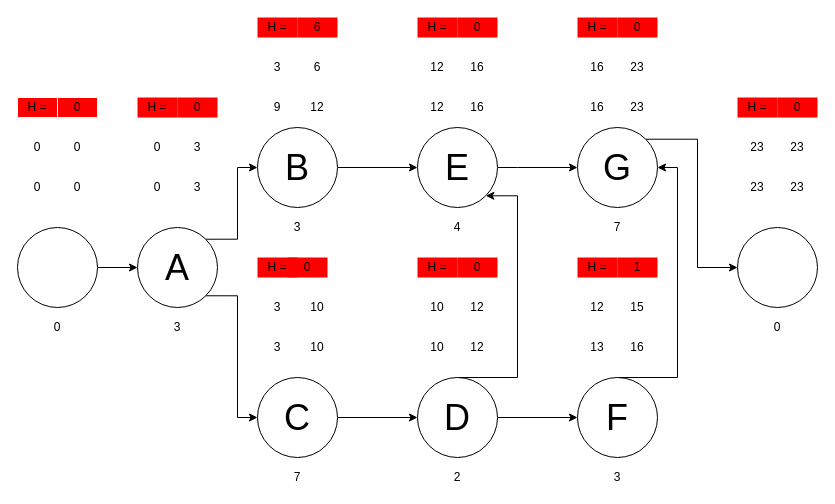
Some shapes in this 835 by 504 pixel diagram are drawn without their labels. The centre of each missing label's shape, as x and y in pixels:
"FIN" goes at (777,267).
"Inicio" goes at (57,267).
